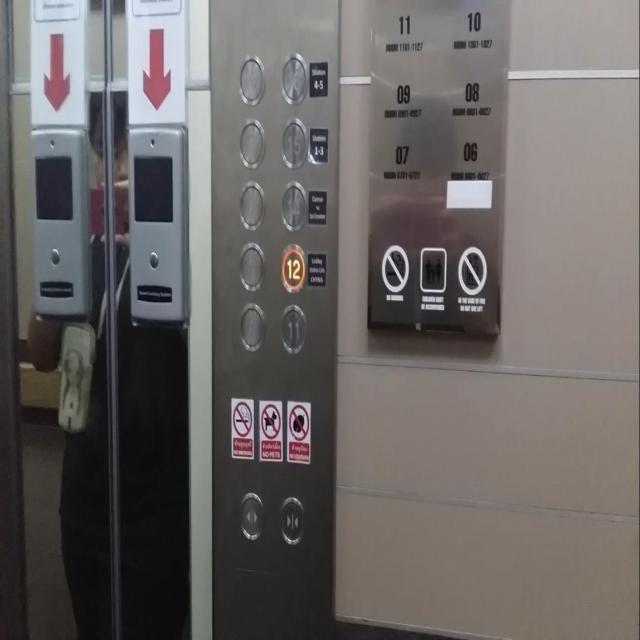11: (280, 304, 306, 354)
12: (279, 242, 306, 292)
14: (280, 179, 307, 230)
15: (280, 115, 307, 167)
16: (280, 52, 307, 105)
blur: (237, 240, 266, 293), (238, 178, 266, 231), (238, 118, 266, 169), (238, 302, 266, 352)
close: (278, 494, 306, 544)
empty: (237, 52, 265, 106)
open: (237, 490, 264, 541)
